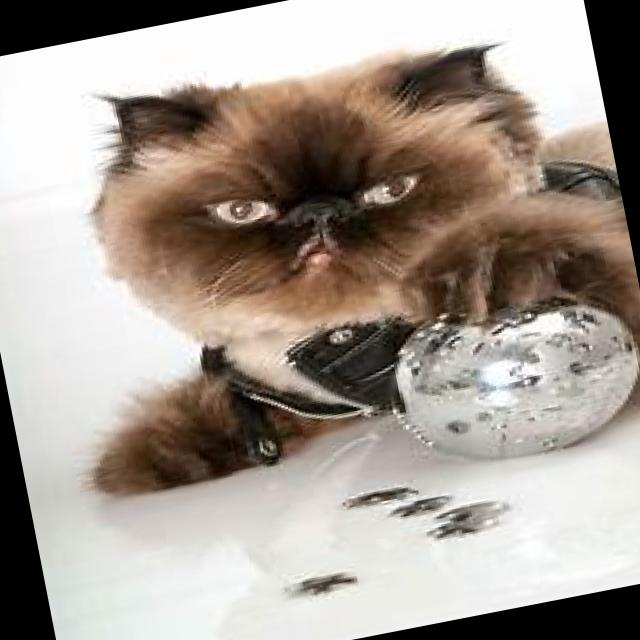animal: (14, 0, 640, 509)
